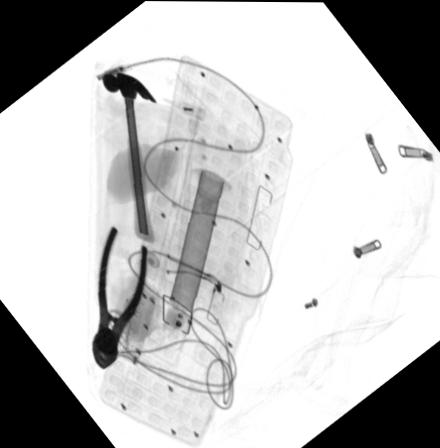Hammer: (100, 70, 156, 243)
Pliers: (91, 225, 148, 369)
